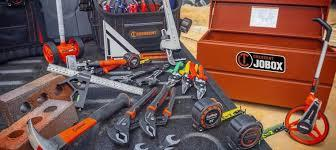wrench: (107, 63, 158, 83), (134, 62, 168, 87), (158, 133, 180, 149), (132, 140, 150, 149)
